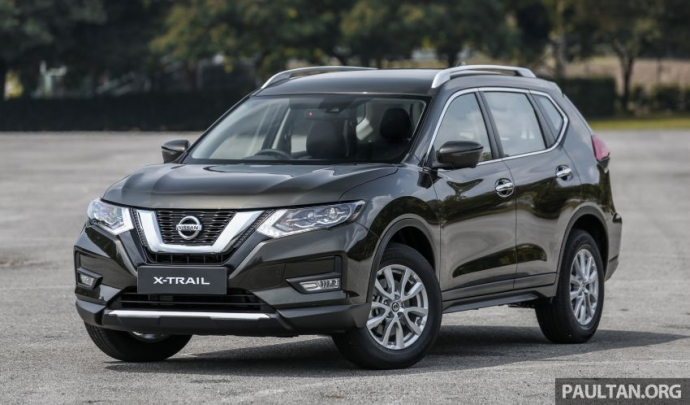pickup: (71, 61, 624, 368)
